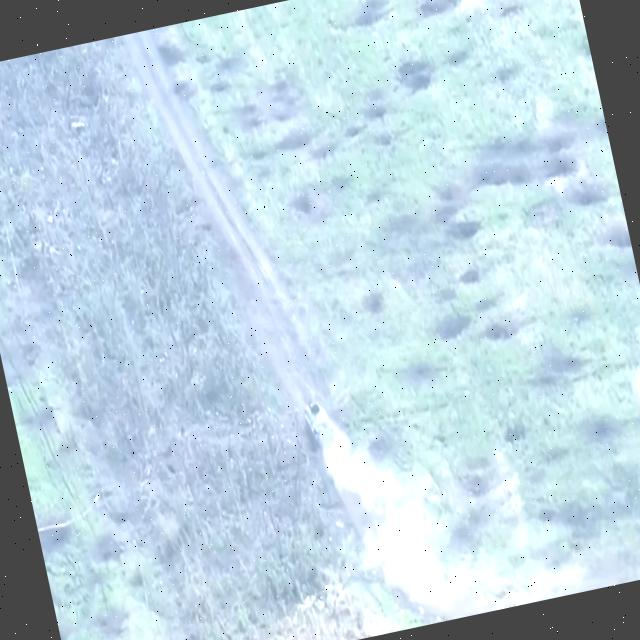APC: (300, 394, 342, 459)
